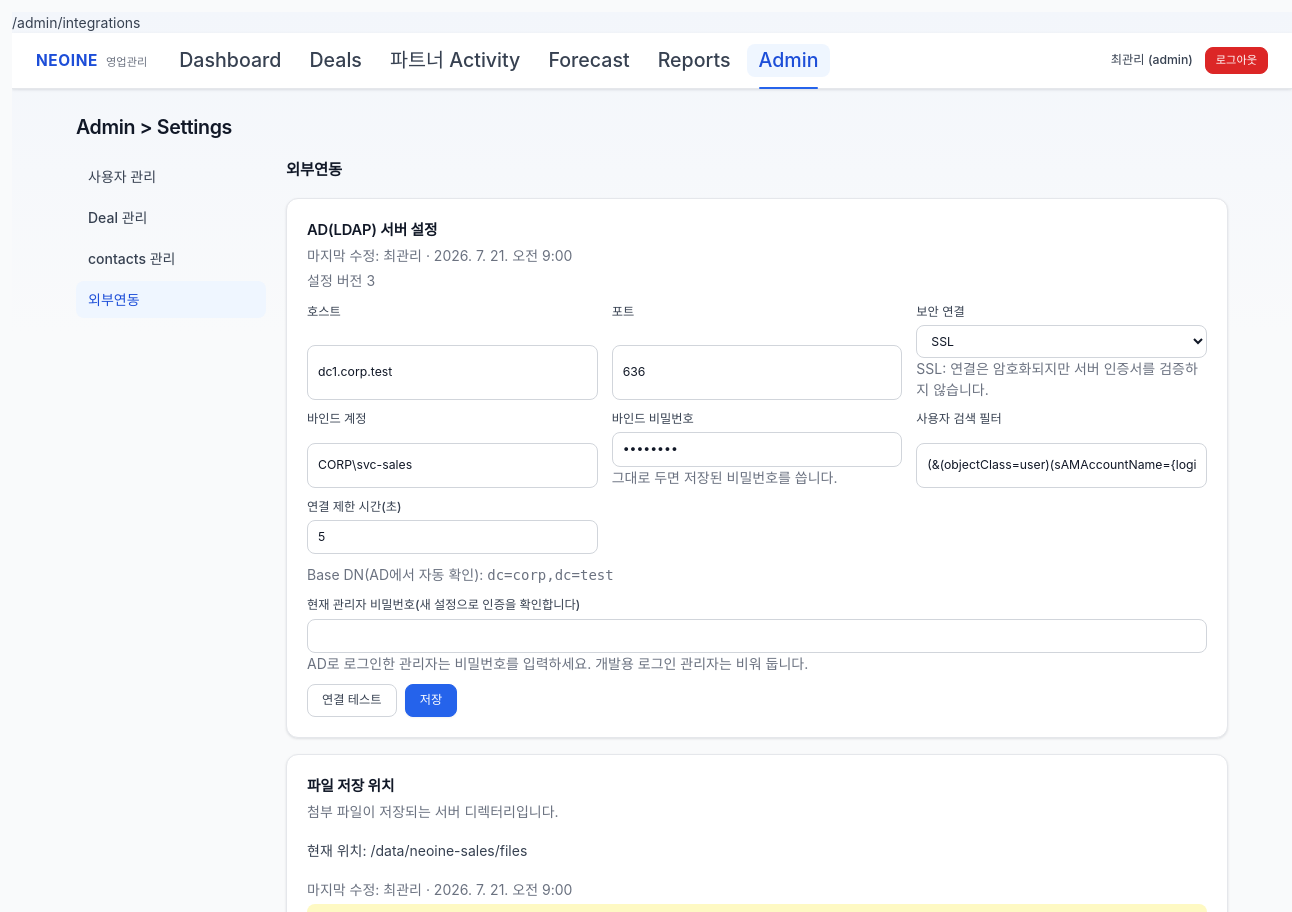
Scenario: 외부연동 AD 설정의 관리자 비밀번호 확인 (AC-27) › sends the password and the loaded revision when saving
This screenshot has width=1292, height=912.
Expected: the field labelled "호스트" is shown, [307,345,598,400]
In the password field labelled "현재 관리자 비밀번호(새 설정으로 인증을 확인합니다)": (757, 636) [307,619,1207,653], type "pw-root"
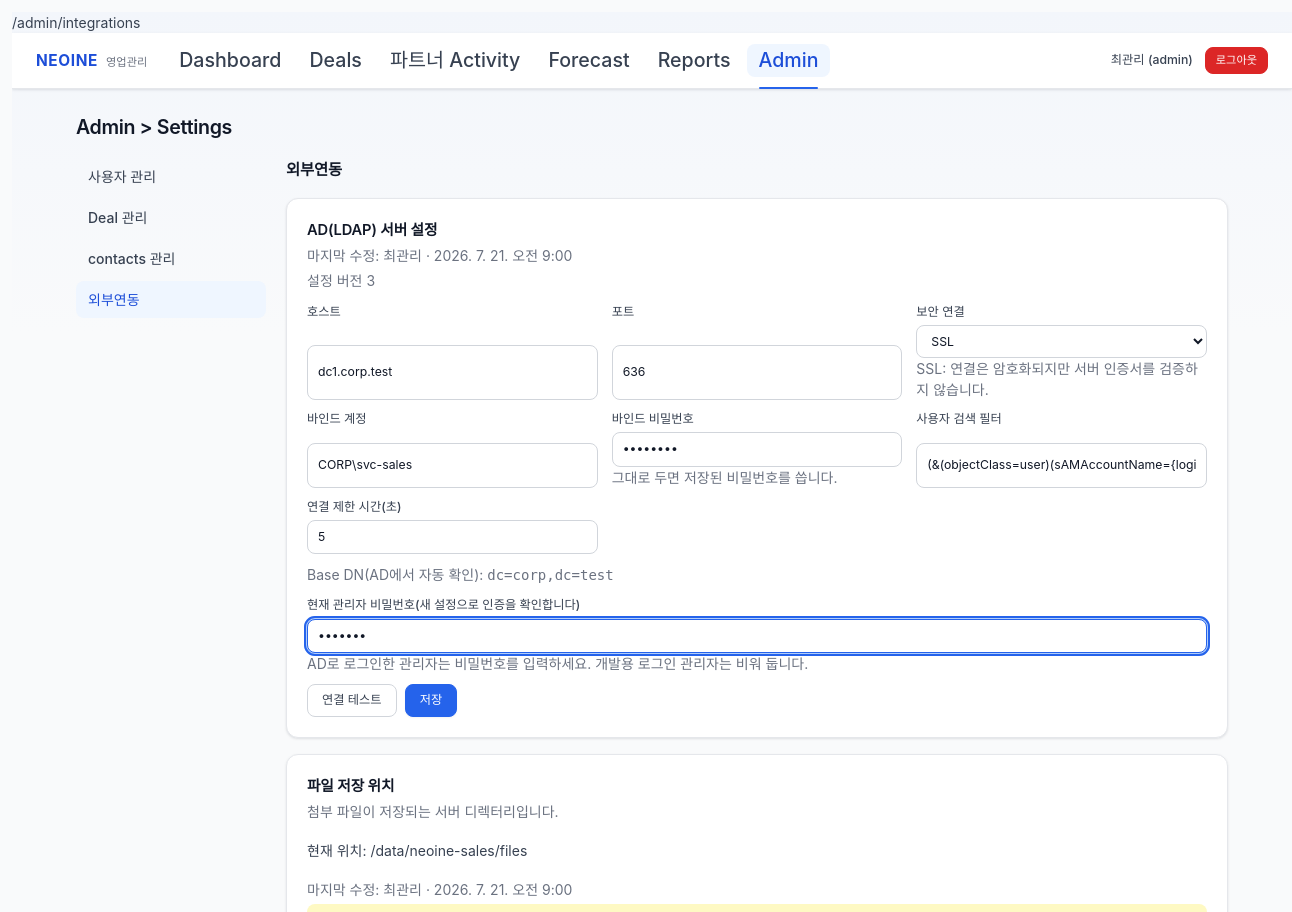
Click the button "저장": (431, 700) [405,684,457,717]
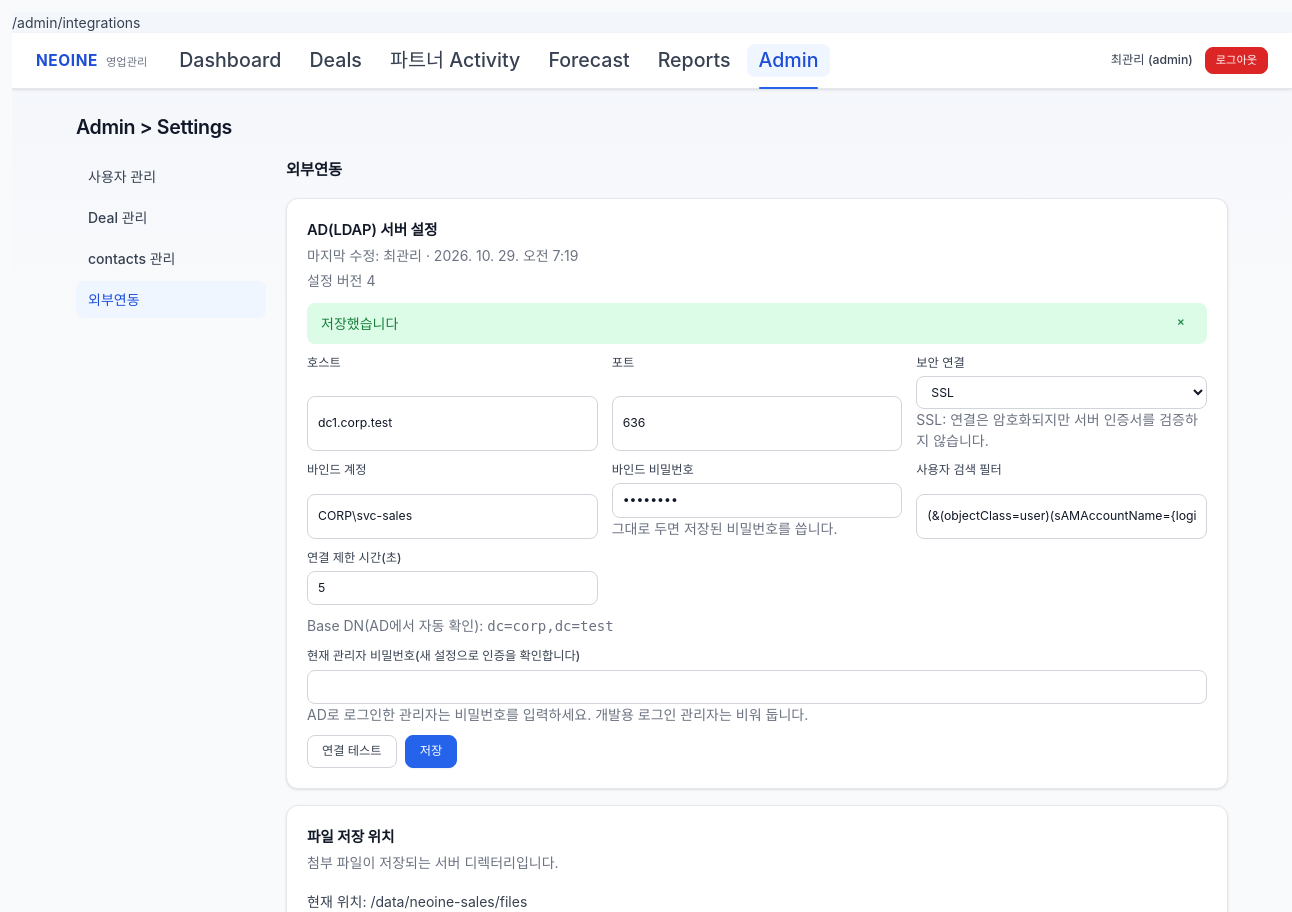
Expected: the text "저장했습니다" is shown, [321,314,398,332]
